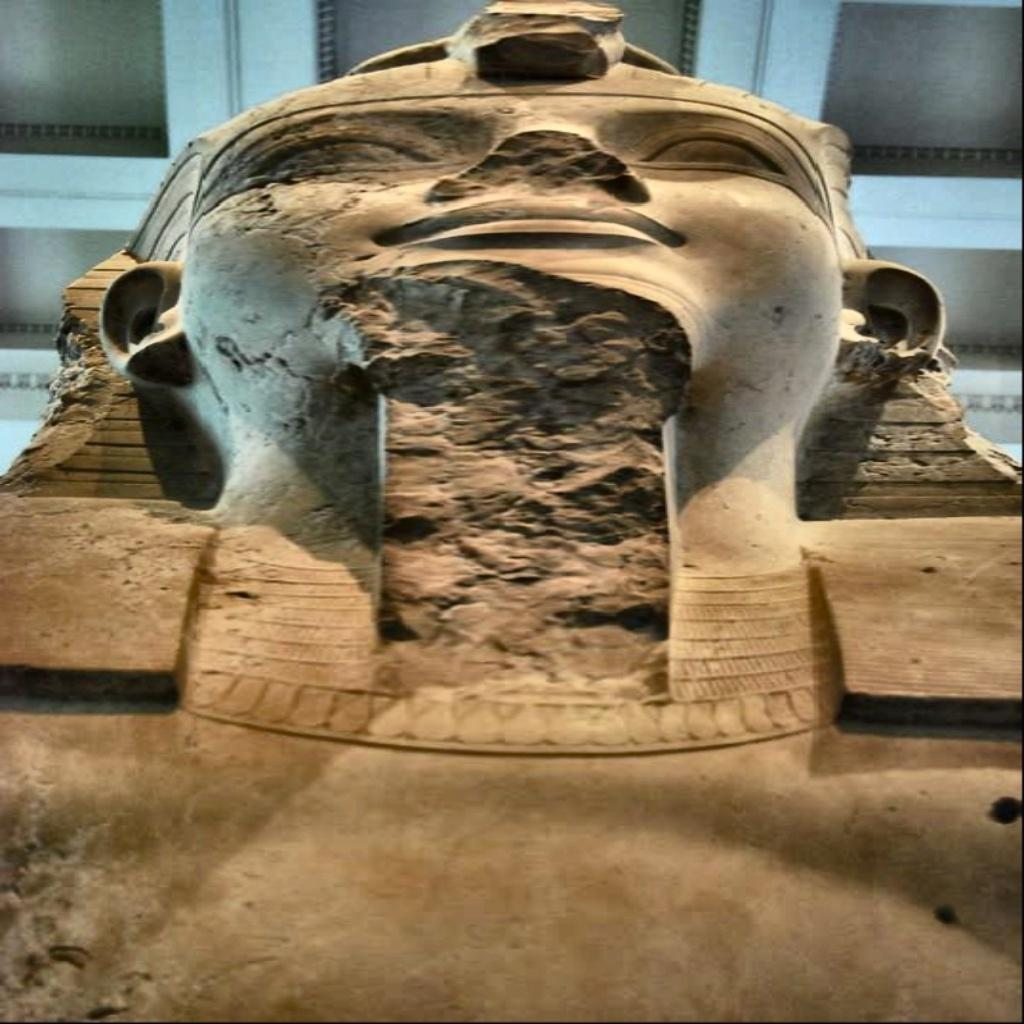Amenhotep III: (8, 2, 1016, 1022)
